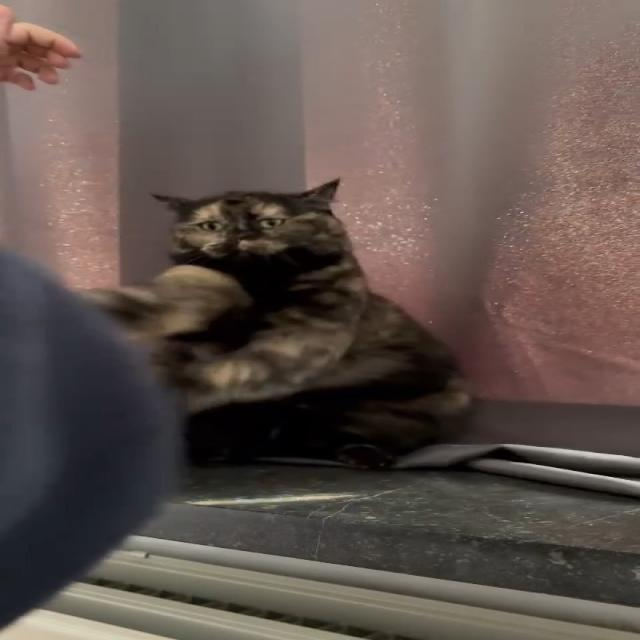authorized: (77, 177, 475, 468)
